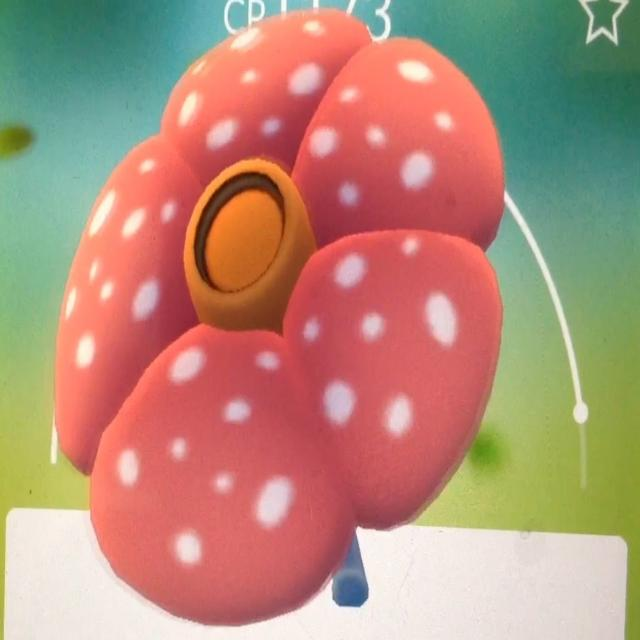Vileplume: (88, 24, 490, 607)
